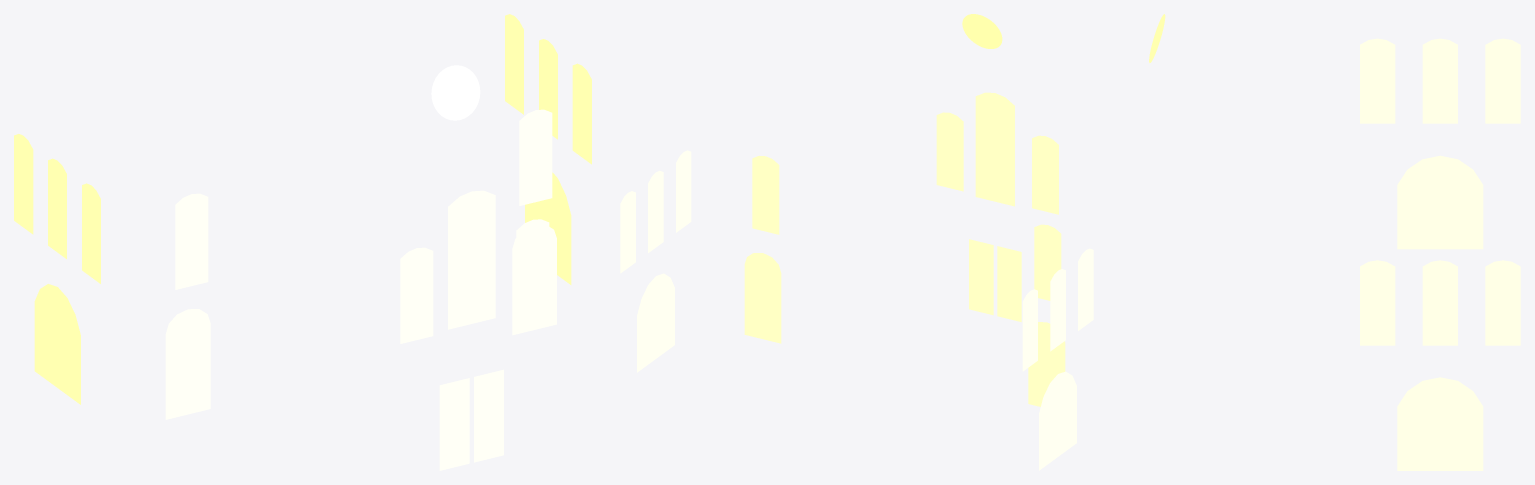
The model's file is house_light.glb.
The picture shows the model from 3 angles, left to right: view 1: azimuth 30°, elevation 25°; view 2: azimuth 150°, elevation 25°; view 3: azimuth 270°, elevation 25°; orthographic projection. The views are drawn at different scales.
Visible parts, largest first — view 1: lumiere, f_toit.001; view 2: lumiere, f_toit.001; view 3: lumiere.
Boxes of the visible parts, x1,y1,x2,y2 form: lumiere: (14, 14, 591, 470); f_toit.001: (431, 65, 480, 120); lumiere: (620, 92, 1093, 470); f_toit.001: (962, 14, 1002, 48); lumiere: (1360, 38, 1520, 470).
Bounding box in the file's own units: 10.01 × 7.45 × 7.61.
